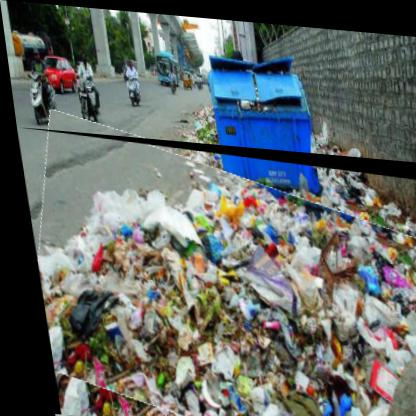Garbage: (14, 128, 416, 416)
